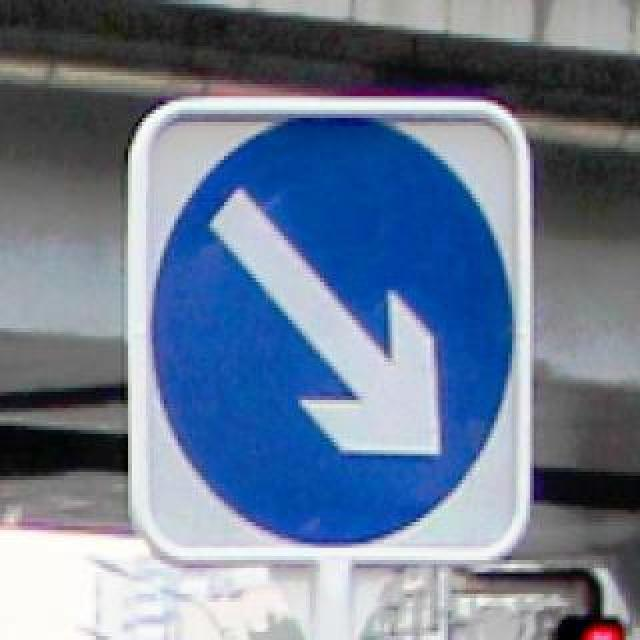keep right: (150, 110, 520, 542)
